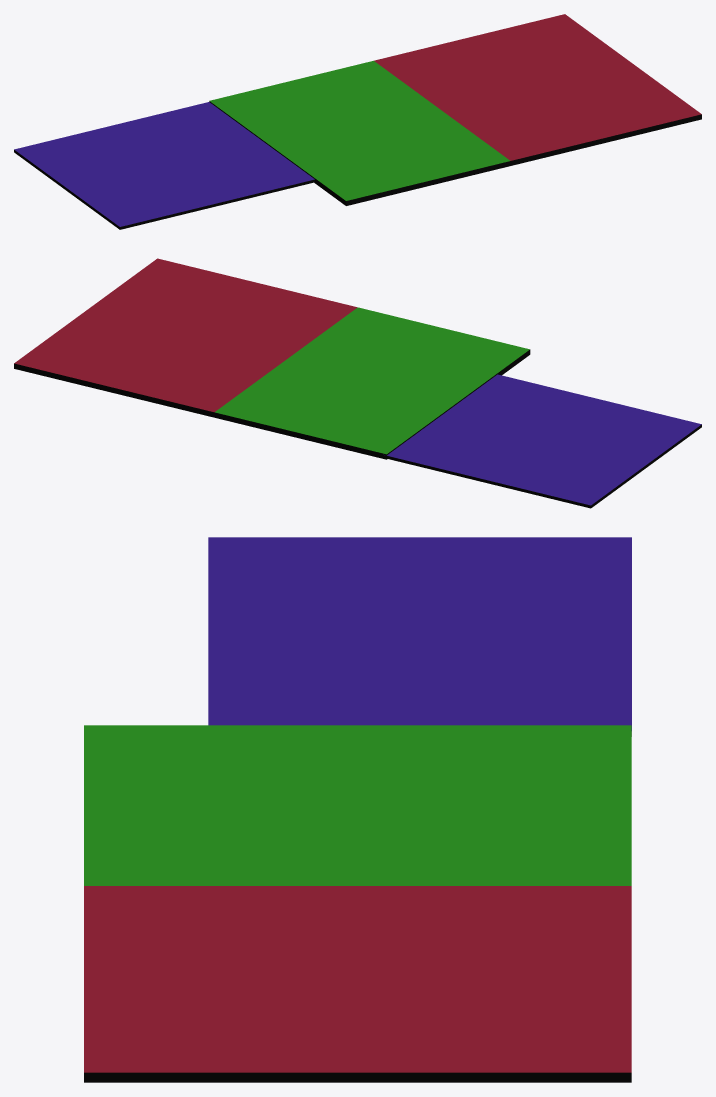
The model's file is apartmentFloor.fbx.
The picture shows the model from 3 angles, top to bottom: view 1: azimuth 30°, elevation 25°; view 2: azimuth 150°, elevation 25°; view 3: azimuth 270°, elevation 25°; orthographic projection. The views are drawn at different scales.
Visible parts, largest first — view 1: Cube.002; view 2: Cube.002; view 3: Cube.002.
Boxes of the visible parts, x1=… form: Cube.002: x1=14, y1=14, x2=701, y2=229; Cube.002: x1=14, y1=258, x2=701, y2=508; Cube.002: x1=84, y1=537, x2=631, y2=1082.
Size of the model in its own units: 2322 by 20.56 by 1001.
